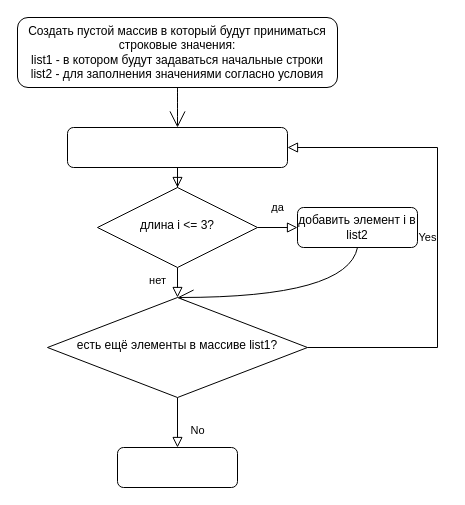
Image size: 465x505. Some labels were removed from this diagram. Each missing label, with the centre of its shape:
"вывод на экран массива list2" belongs at point (177, 467).
"запуск цикла for, анализирующего длину i-го элемента массива list1" belongs at point (177, 147).
